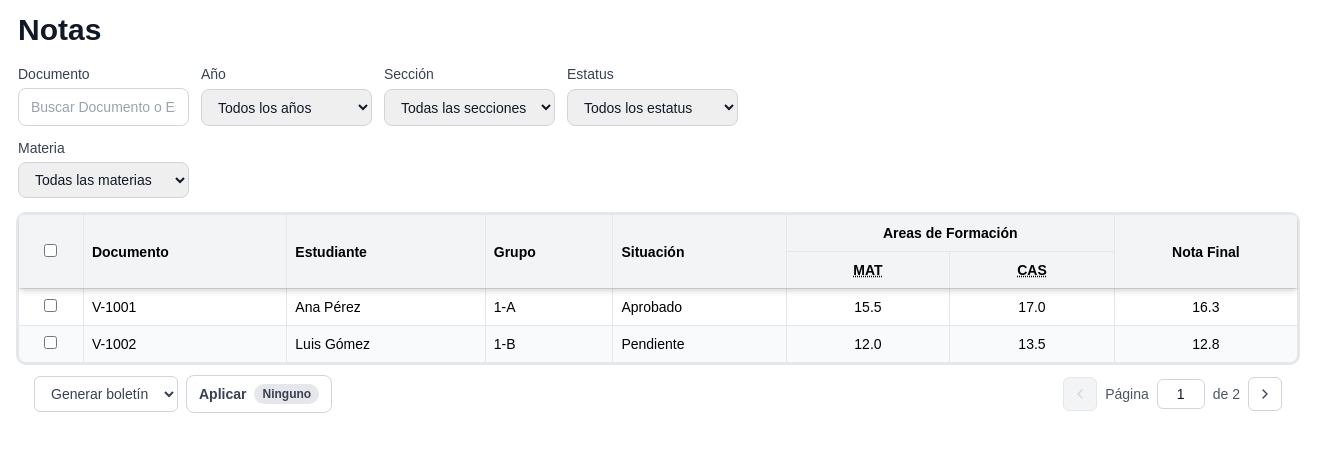
it: Grades page › hides editing from users without a permitted role
Click the button "MAT": (868, 270) left=853, top=260, right=883, bottom=280
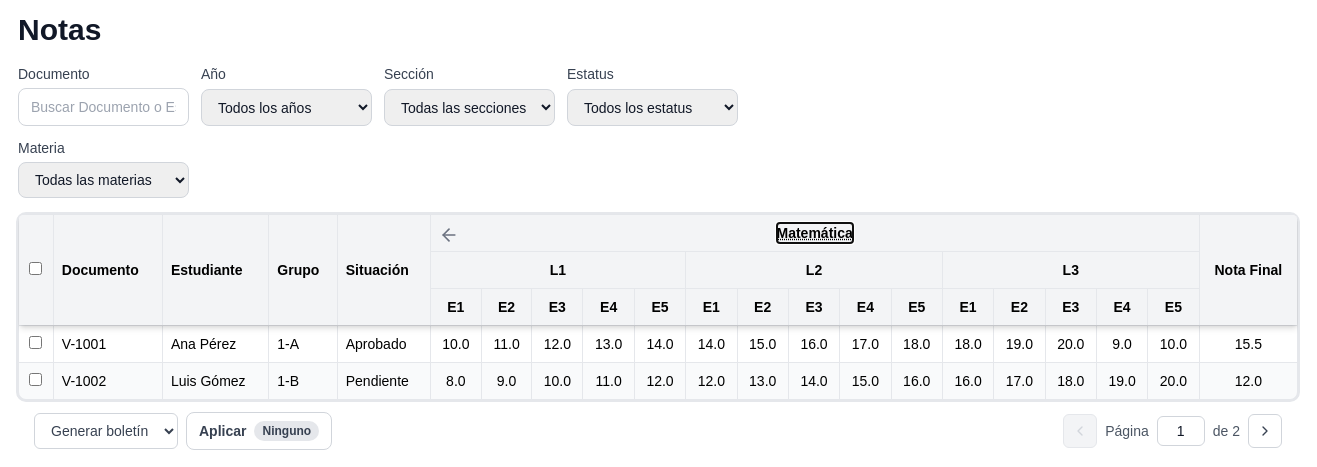
Expected: the button "Matemática" is shown, left=776, top=223, right=853, bottom=243
